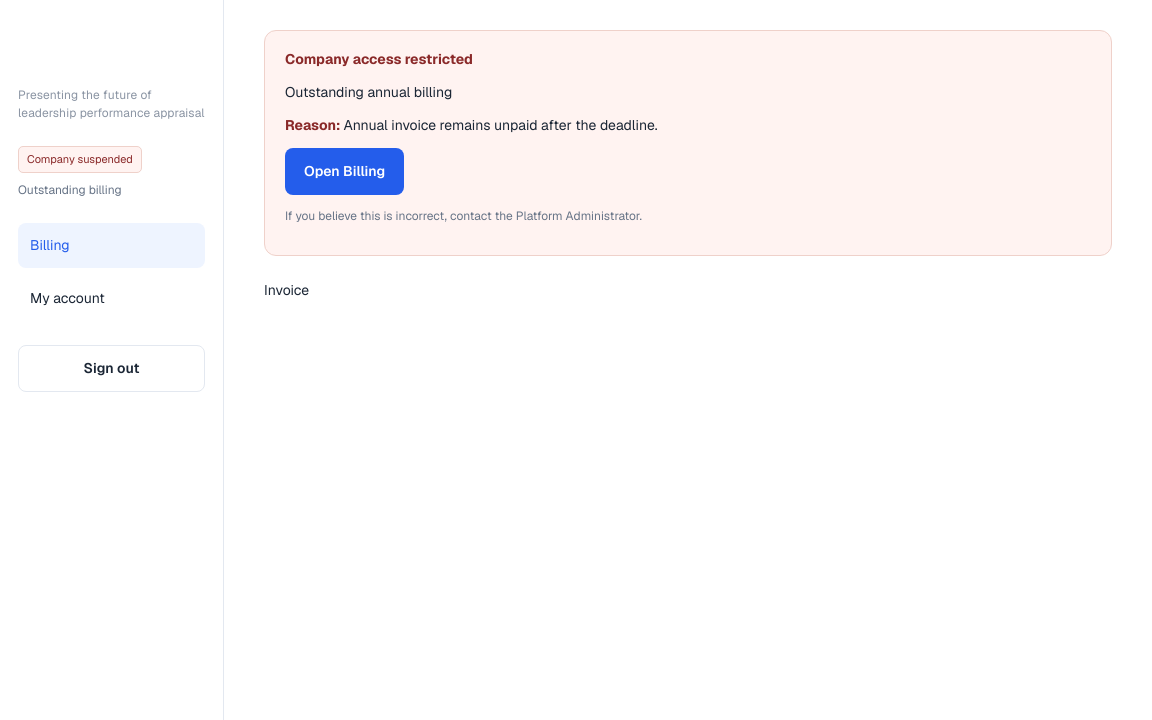
Test case: retains sign-out access and reports a failed logout
Click the button "Sign out" at (112, 368), box [18,344,205,392]
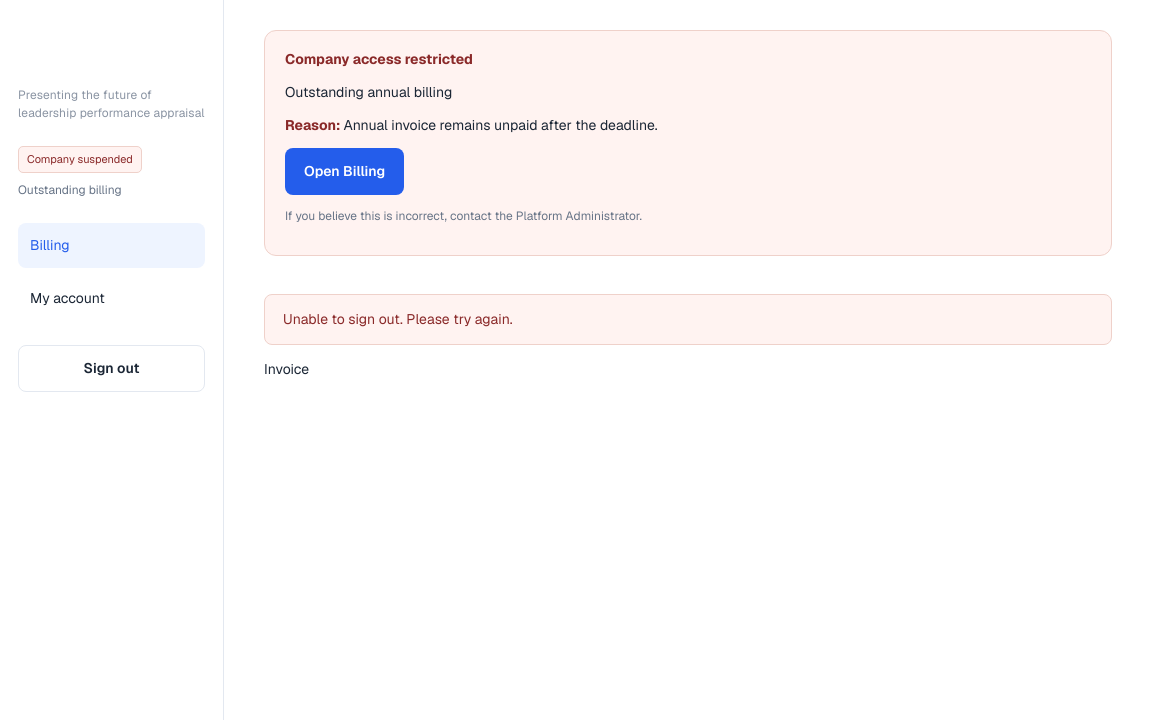
Result: the text "Unable to sign out. Please try again." is shown at [264,294,1112,345]
